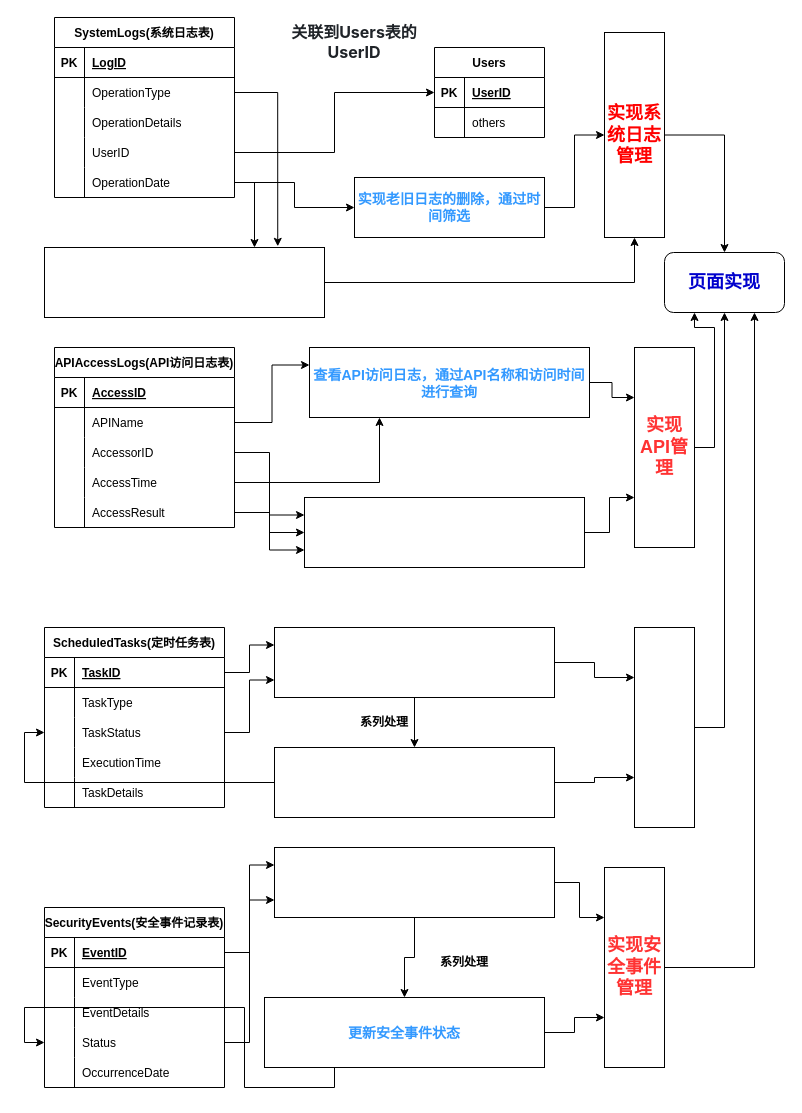
This 802x1113 diagram has some shape labels left out. Here are the shapes that lost their labels. From the top down, the centre of each, then its label:
point (184, 282): 功能一实现： 允许管理员查看系统日志，并根据需要进行查询和筛选（操作类型和日期）
point (444, 532): 调用API失败次数统计，也可加上错误记录（访问者与访问时间）
point (414, 662): 查看定时任务状态（是否完成）
point (664, 727): 实现任务管理
point (414, 782): 更新任务状态
point (414, 882): 查看未处理的安全事件
